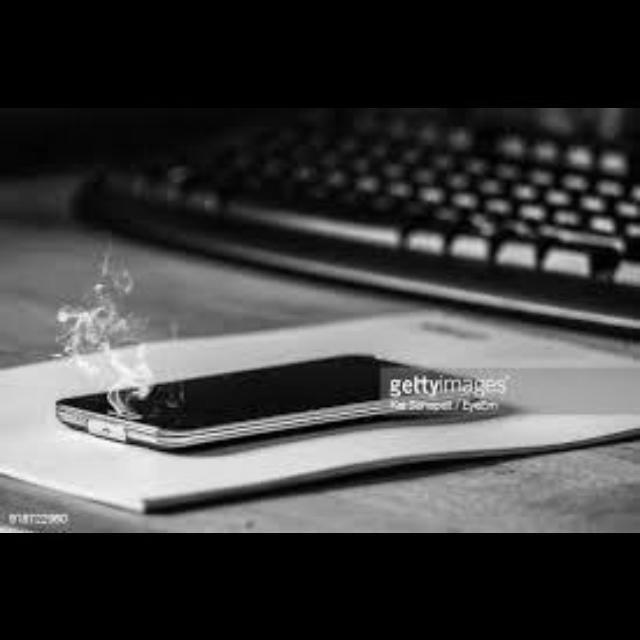fake: (32, 334, 508, 450)
